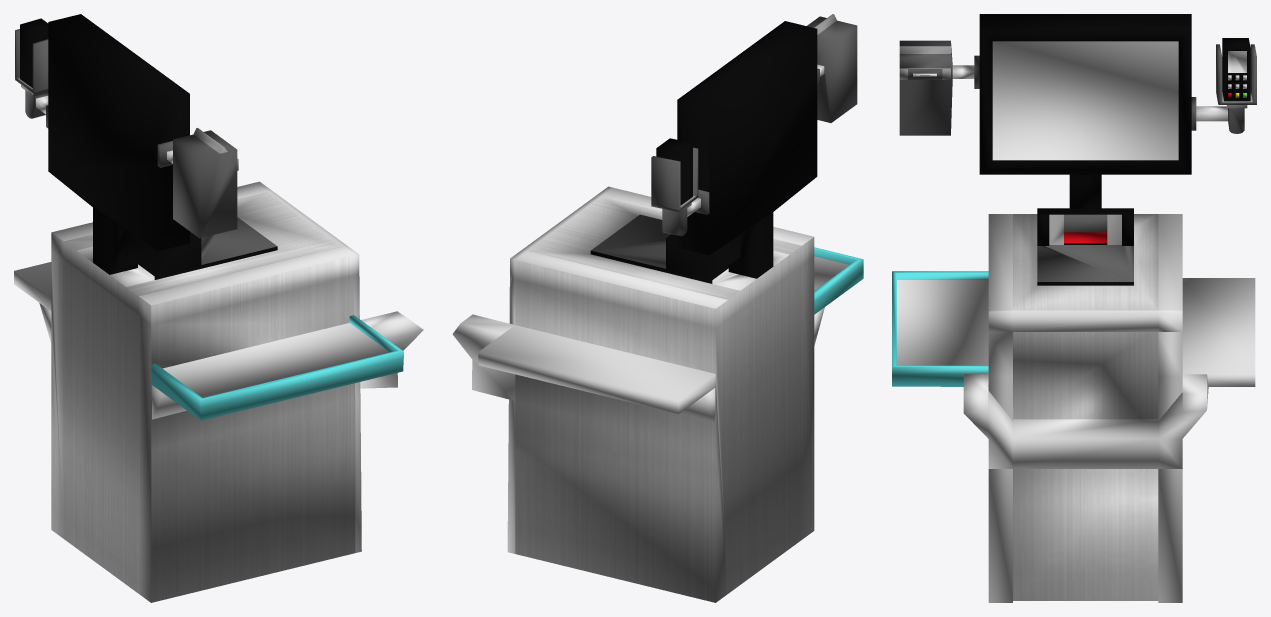
The model's file is caja_automatica .fbx.
3 views of the same model, side by side, from view 1: azimuth 30°, elevation 25°; view 2: azimuth 150°, elevation 25°; view 3: azimuth 270°, elevation 25° (orthographic). The views are drawn at different scales.
Parts seen in each view (by area): view 1: Cube; view 2: Cube; view 3: Cube.
Boxes of the visible parts, x1=… form: Cube: x1=14, y1=14, x2=423, y2=602; Cube: x1=452, y1=14, x2=863, y2=602; Cube: x1=892, y1=14, x2=1256, y2=602.
Bounding box in the file's own units: 515 × 955 × 644.
9 materials, 1 textured.
